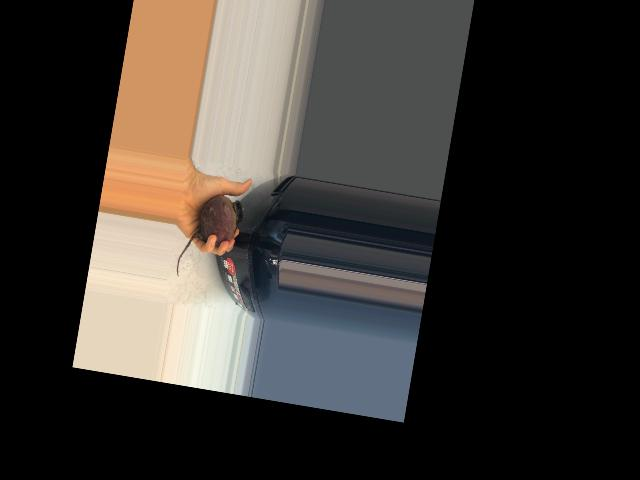beet: (174, 190, 245, 285)
